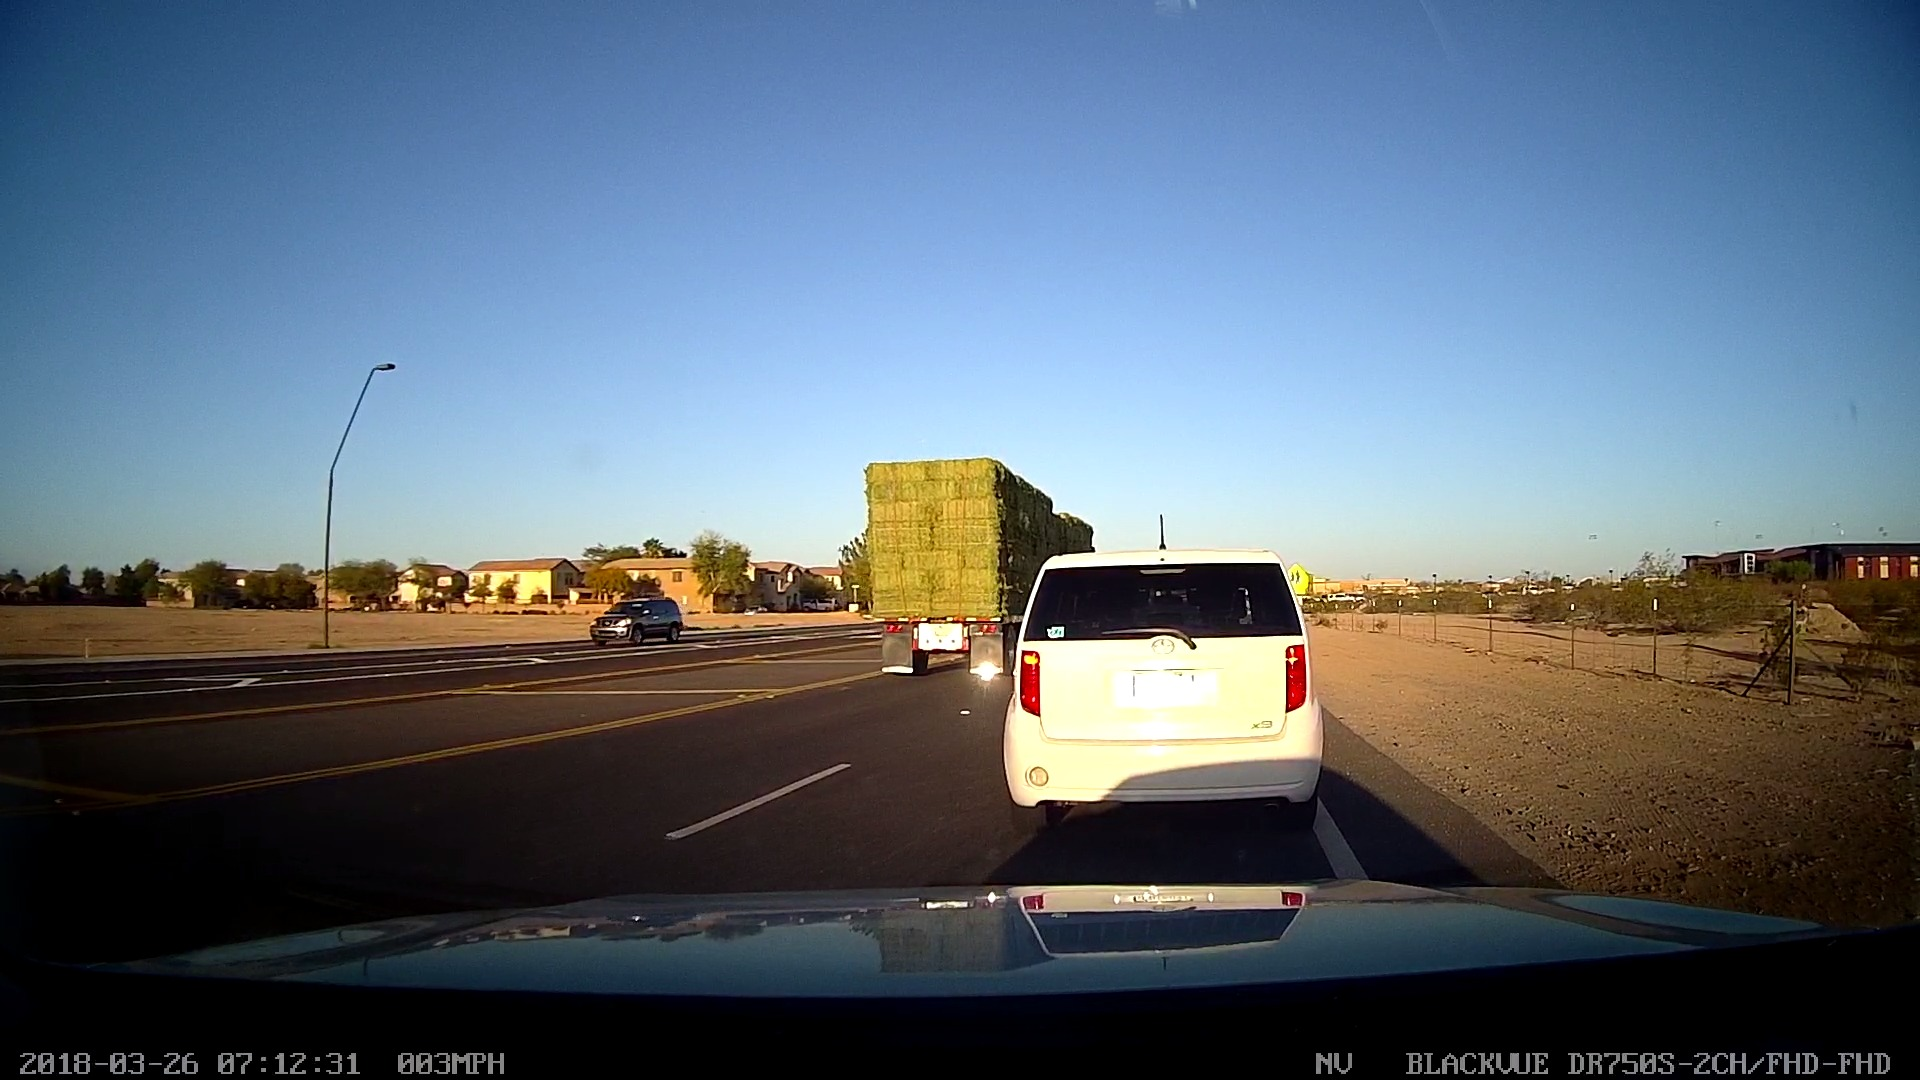plate: (1119, 660, 1210, 717)
vehicle: (1005, 548, 1327, 813), (853, 444, 1106, 681), (588, 594, 684, 648)
